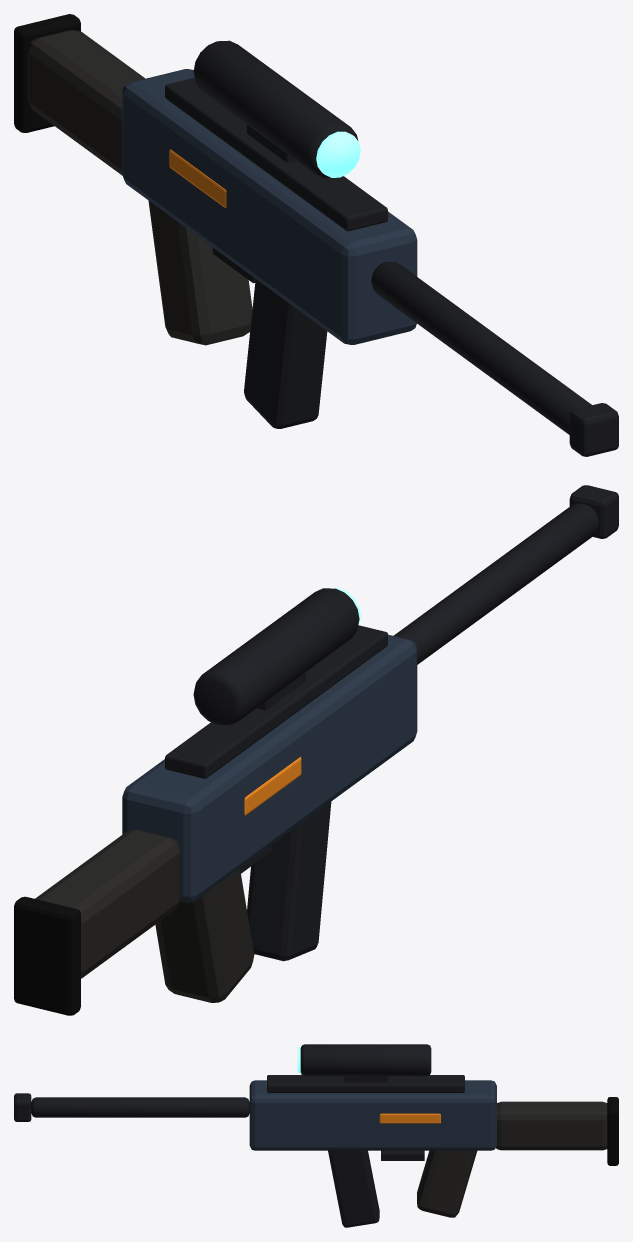
File: Longshot.fbx
3 renders of one model, top to bottom at view 1: azimuth 30°, elevation 25°; view 2: azimuth 150°, elevation 25°; view 3: azimuth 270°, elevation 25°, orthographic. The views are drawn at different scales.
Visible parts, largest first — view 1: Part__Metal__1f2024, Part__Metal__2e3a4a, Part__SmoothPlastic__2b2a28, Handle__SmoothPlastic__2b2a28, Part__SmoothPlastic__111111, Muzzle__Metal__1f2024, Part__Neon__50b4ff, Part__SmoothPlastic__ff8c1e; view 2: Part__Metal__1f2024, Part__Metal__2e3a4a, Part__SmoothPlastic__2b2a28, Handle__SmoothPlastic__2b2a28, Part__SmoothPlastic__111111, Muzzle__Metal__1f2024, Part__SmoothPlastic__ff8c1e; view 3: Part__Metal__1f2024, Part__Metal__2e3a4a, Part__SmoothPlastic__2b2a28, Handle__SmoothPlastic__2b2a28, Part__SmoothPlastic__111111, Part__SmoothPlastic__ff8c1e, Muzzle__Metal__1f2024.
Part boxes in pixels (bbox=[...]): Part__Metal__1f2024: bbox=[165, 40, 591, 434]; Part__Metal__2e3a4a: bbox=[122, 69, 417, 344]; Part__SmoothPlastic__2b2a28: bbox=[28, 30, 144, 175]; Handle__SmoothPlastic__2b2a28: bbox=[148, 200, 252, 345]; Part__SmoothPlastic__111111: bbox=[14, 14, 80, 132]; Muzzle__Metal__1f2024: bbox=[569, 403, 618, 456]; Part__Neon__50b4ff: bbox=[316, 131, 360, 177]; Part__SmoothPlastic__ff8c1e: bbox=[169, 149, 226, 207]; Part__Metal__1f2024: bbox=[165, 503, 599, 961]; Part__Metal__2e3a4a: bbox=[122, 634, 417, 902]; Part__SmoothPlastic__2b2a28: bbox=[35, 830, 180, 978]; Handle__SmoothPlastic__2b2a28: bbox=[155, 868, 254, 1002]; Part__SmoothPlastic__111111: bbox=[14, 896, 80, 1015]; Muzzle__Metal__1f2024: bbox=[569, 485, 618, 538]; Part__SmoothPlastic__ff8c1e: bbox=[244, 757, 301, 815]; Part__Metal__1f2024: bbox=[31, 1044, 464, 1227]; Part__Metal__2e3a4a: bbox=[249, 1080, 496, 1150]; Part__SmoothPlastic__2b2a28: bbox=[496, 1101, 607, 1150]; Handle__SmoothPlastic__2b2a28: bbox=[417, 1150, 477, 1217]; Part__SmoothPlastic__111111: bbox=[607, 1097, 618, 1165]; Part__SmoothPlastic__ff8c1e: bbox=[379, 1113, 440, 1123]; Muzzle__Metal__1f2024: bbox=[14, 1093, 31, 1121].
Size of the model in its own units: 0.33 by 1.35 by 4.16.
